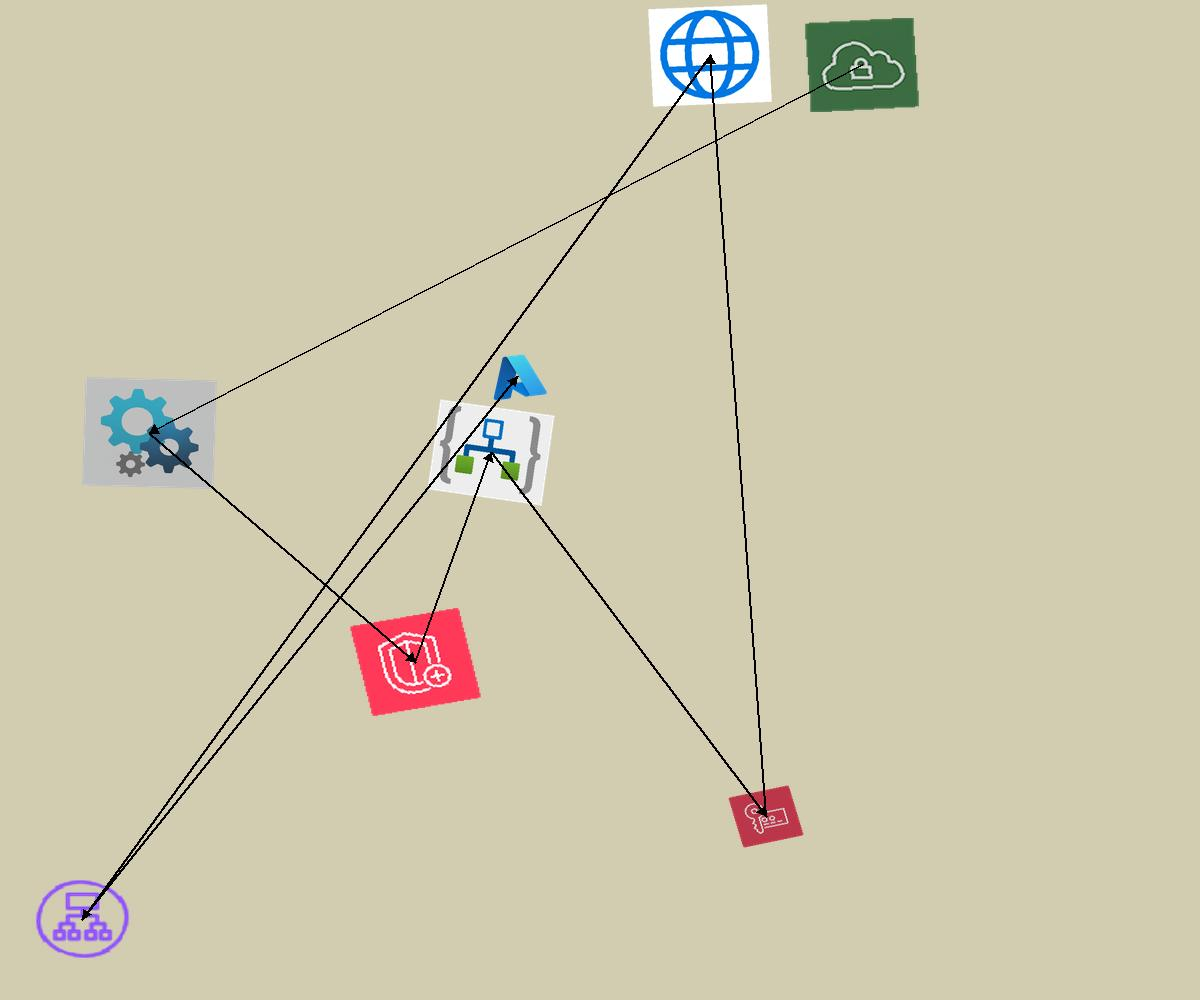AWS-Key-Management-Service: (728, 785, 804, 848)
AWS-Private_vpc: (804, 17, 920, 113)
AWS-Res_Elastic-Load-Balancing_Application-Load-Balancer: (30, 875, 135, 963)
AWS-Shield: (349, 607, 482, 717)
Azure_api: (82, 377, 217, 489)
Azure_http: (648, 4, 772, 107)
Azure_integration-204-Logic-Apps: (427, 399, 555, 506)
Azure_services: (484, 349, 550, 404)
